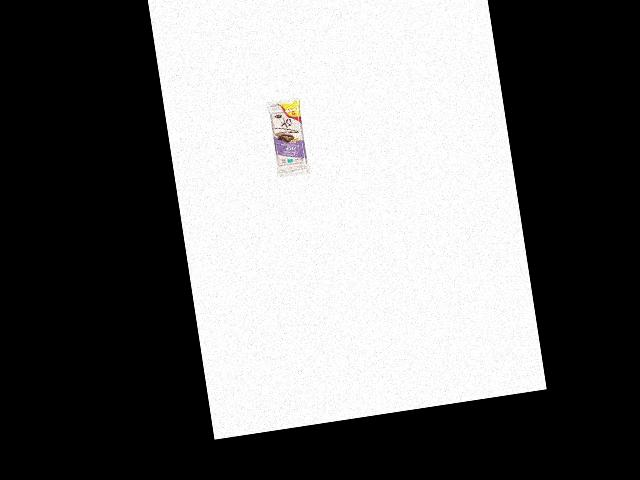chocolate: (262, 94, 313, 179)
